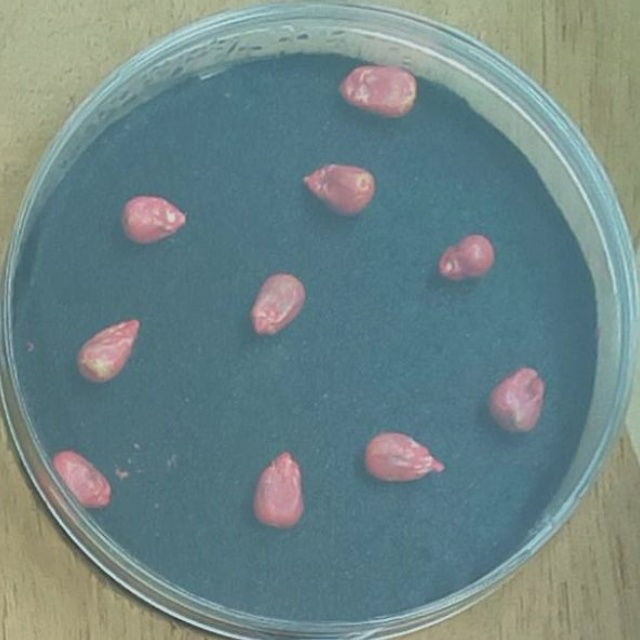Zea mays: (244, 444, 311, 538), (69, 312, 148, 391), (331, 57, 422, 125), (357, 423, 450, 489), (294, 158, 381, 223), (480, 361, 553, 438), (44, 443, 117, 517), (241, 266, 311, 343), (110, 188, 192, 251), (430, 228, 500, 290)
